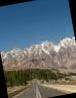sharp_turn: (5, 68, 76, 98)
